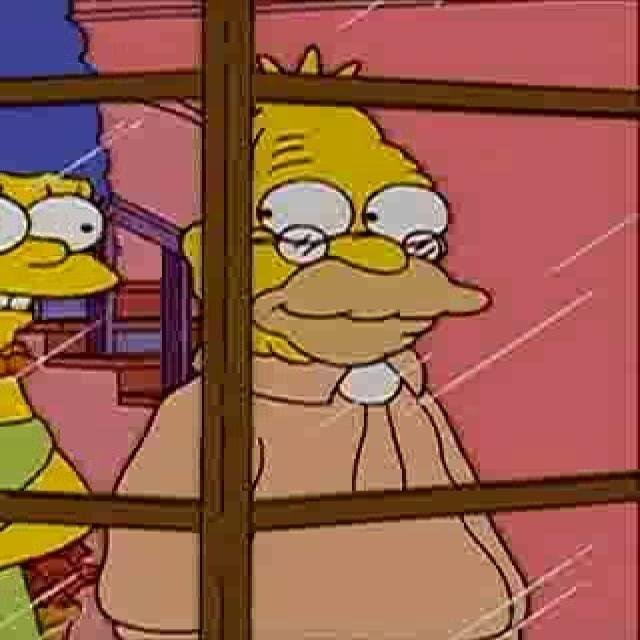Abraham Grampa Simpson: (173, 41, 499, 375)
Marge Simpson: (1, 0, 127, 389)
